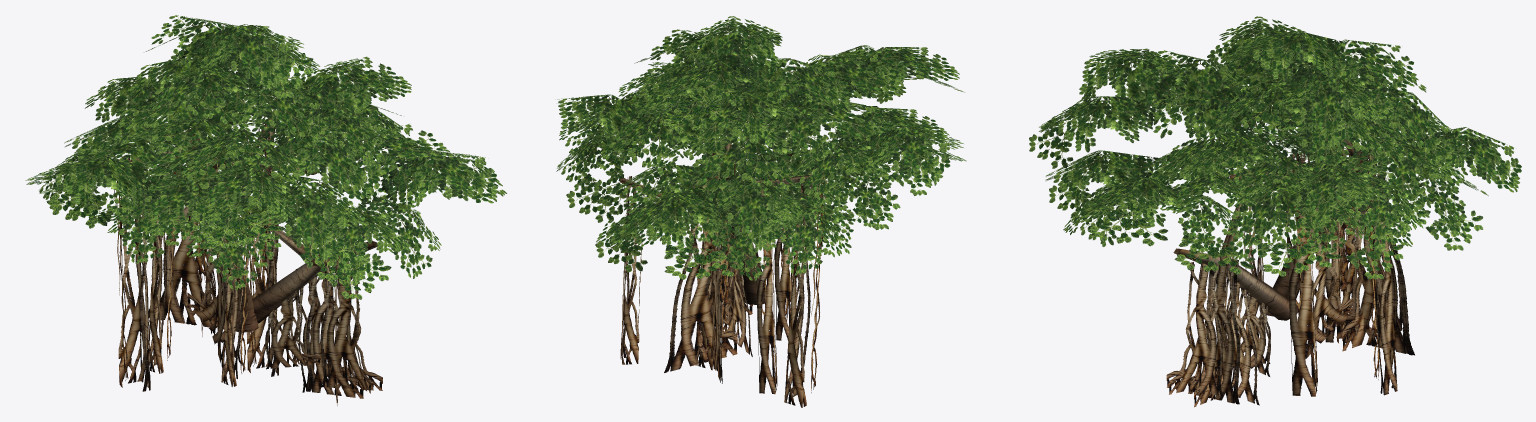
File: flora-trees-banyan.glb
3 renders of one model, left to right at view 1: azimuth 30°, elevation 25°; view 2: azimuth 150°, elevation 25°; view 3: azimuth 270°, elevation 25°, orthographic. The views are drawn at different scales.
Visible parts, largest first — view 1: Plane_011, Cylinder.008; view 2: Plane_011, Cylinder.008; view 3: Plane_011, Cylinder.008.
Boxes of the visible parts, x1=… form: Plane_011: x1=25, y1=15, x2=506, y2=299; Cylinder.008: x1=114, y1=117, x2=382, y2=405; Plane_011: x1=556, y1=16, x2=966, y2=280; Cylinder.008: x1=620, y1=137, x2=836, y2=407; Plane_011: x1=1029, y1=16, x2=1521, y2=279; Cylinder.008: x1=1166, y1=135, x2=1414, y2=407.
Size of the model in its own units: 12.31 by 10.48 by 13.29.
2 materials, 2 textured.
